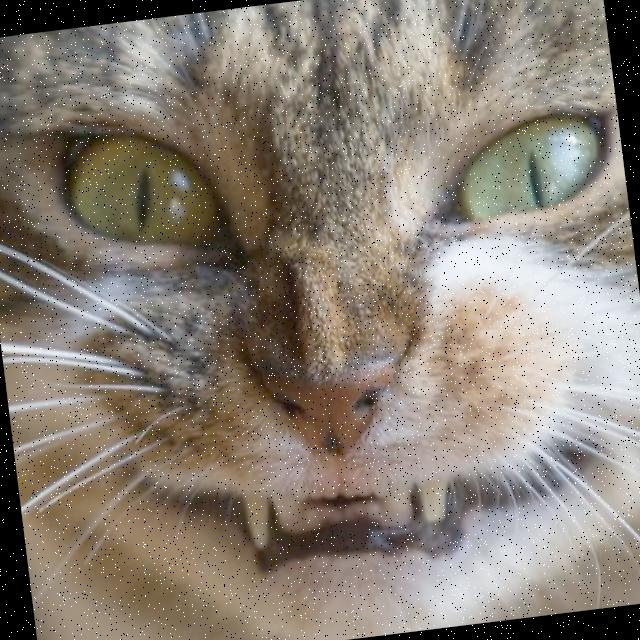Angry: (20, 29, 640, 626)
